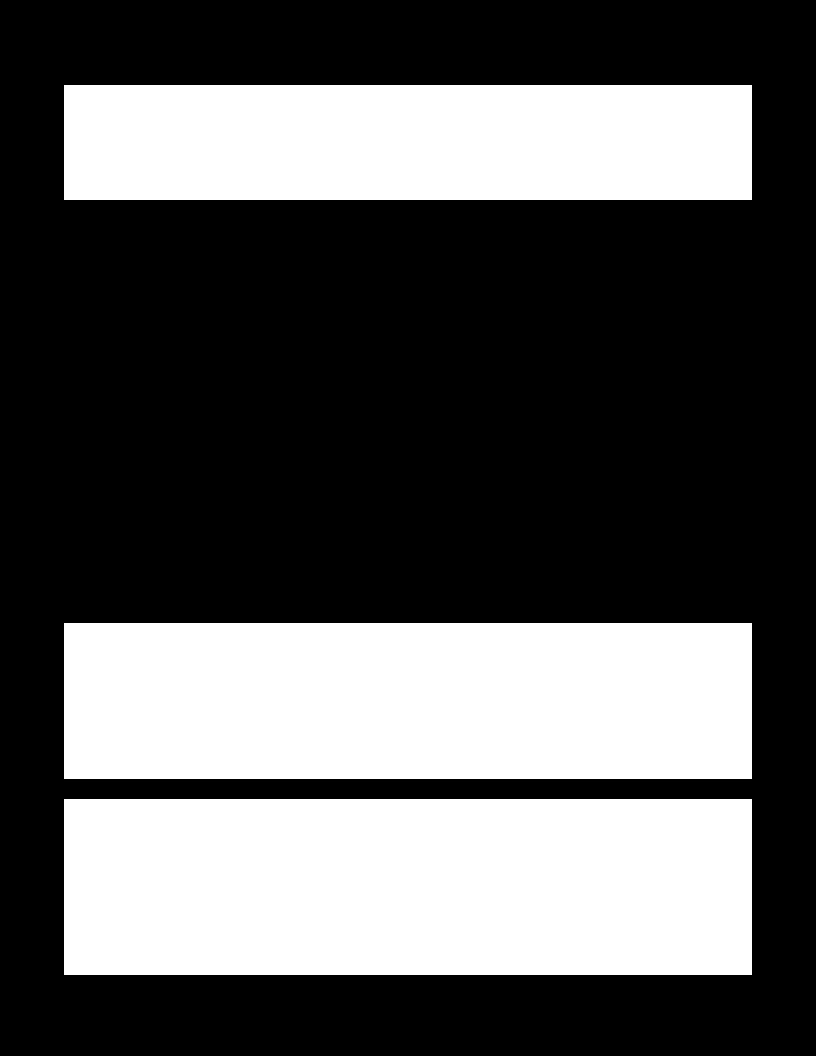table: (64, 799, 751, 974), (64, 623, 751, 778), (64, 85, 751, 199)
